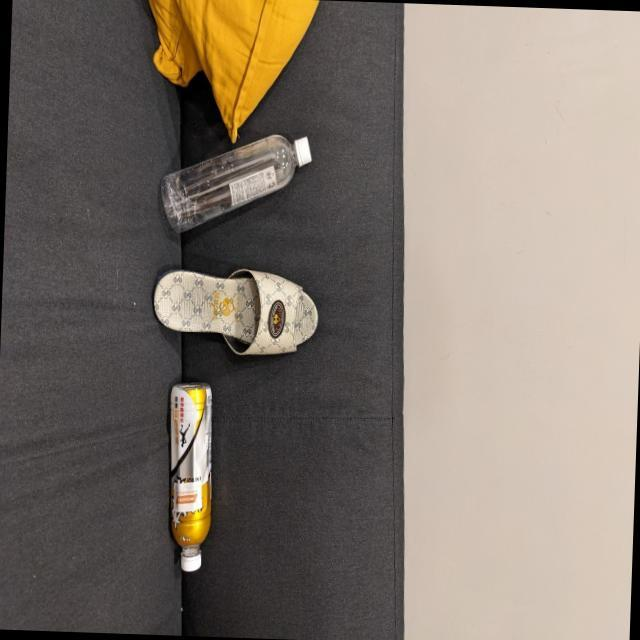good: (165, 122, 314, 240), (167, 385, 218, 578)
